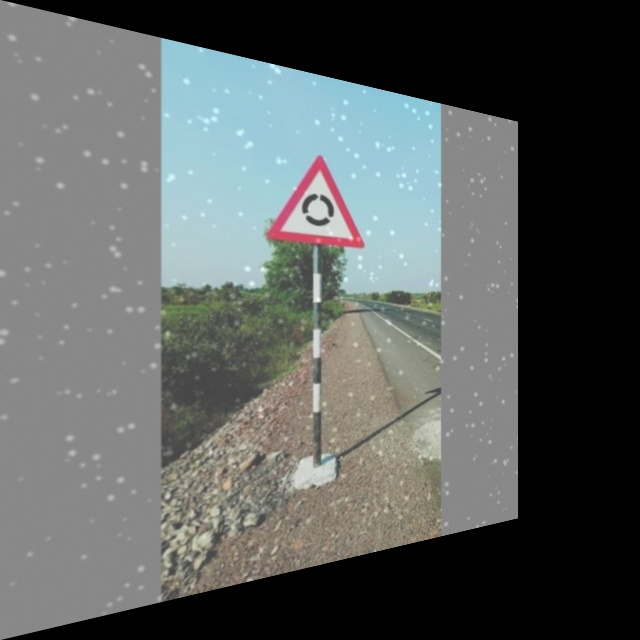Round_About: (269, 145, 366, 248)
